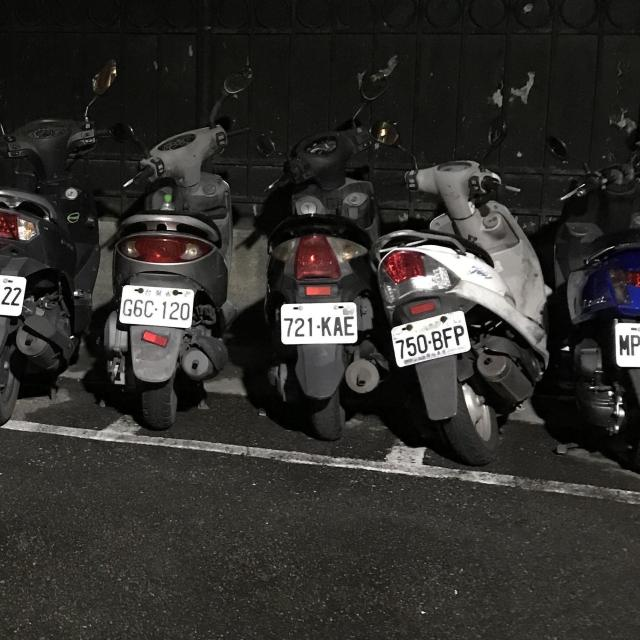W: (387, 308, 476, 367), (277, 298, 362, 348), (116, 282, 200, 330), (608, 316, 640, 370), (0, 268, 28, 318)
